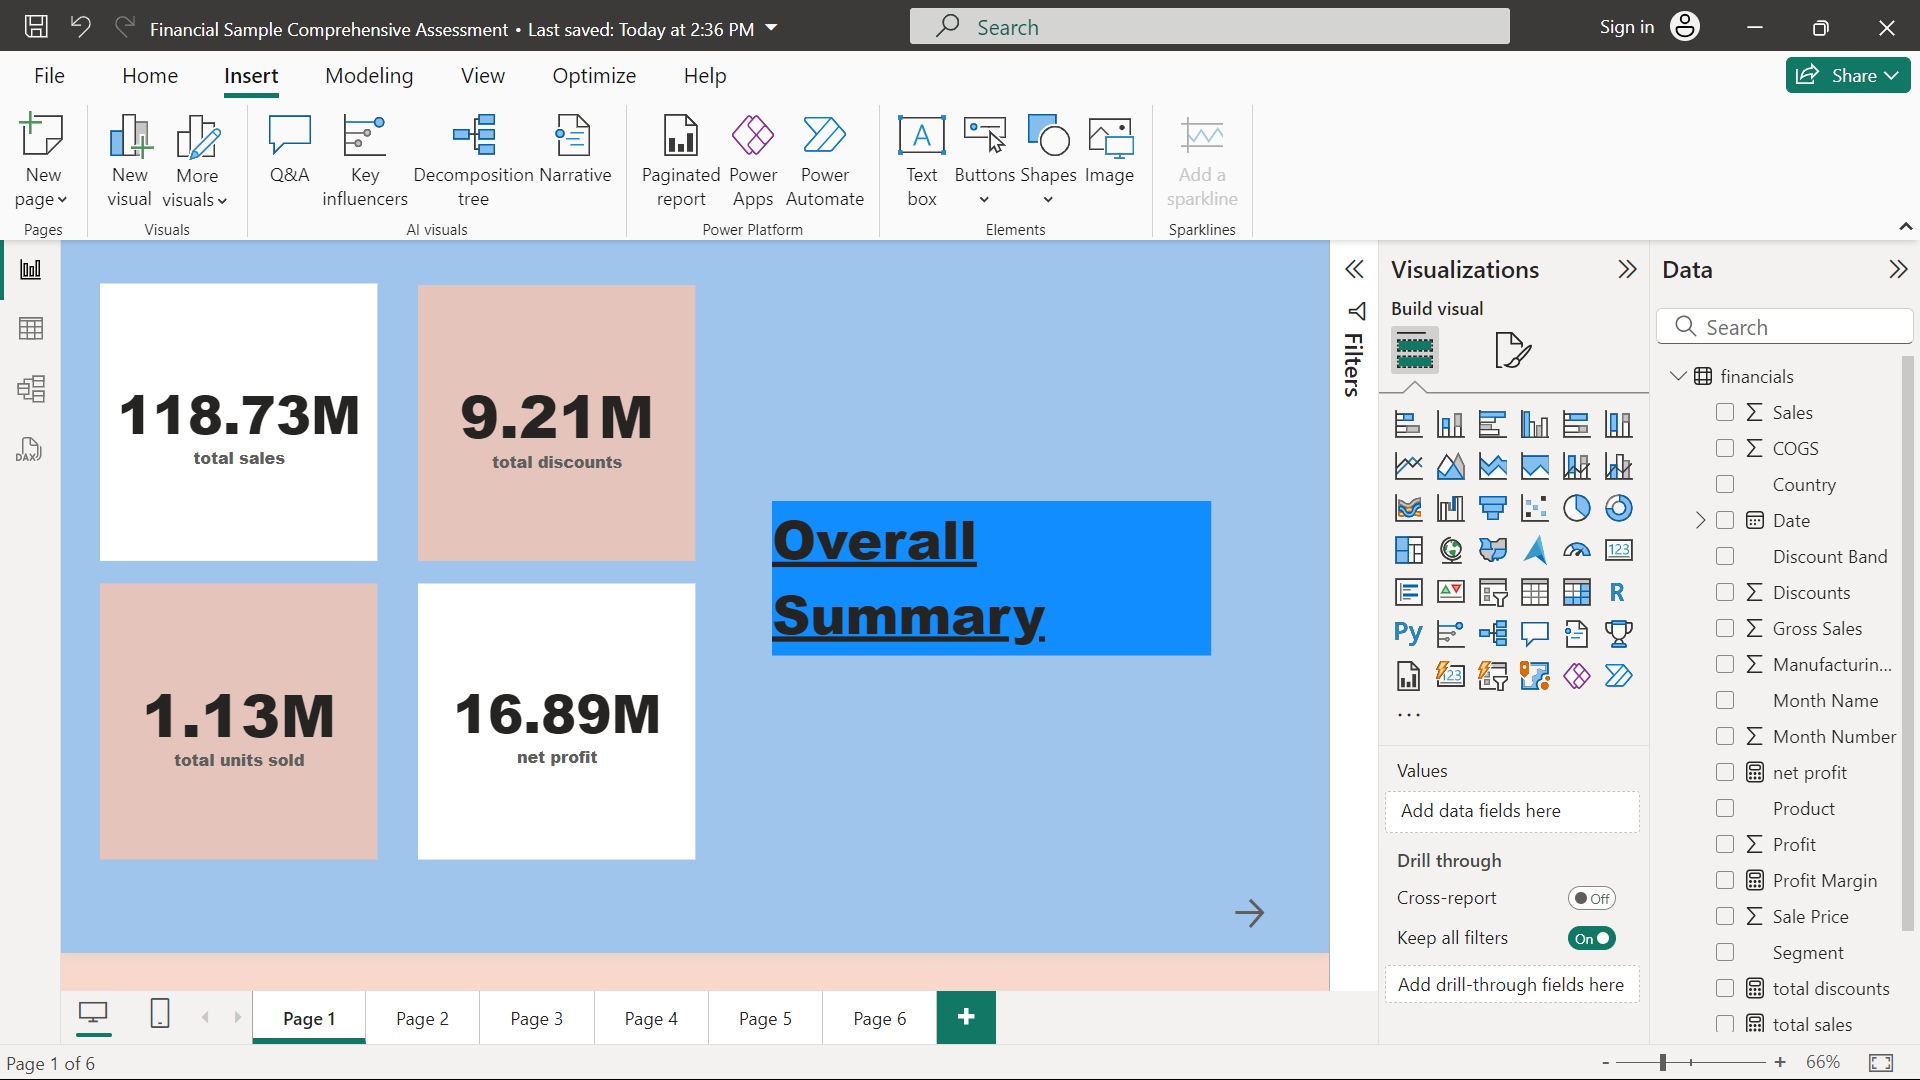

The page's visual inventory and layout, read from the dashboard file:
{"tool":"powerbi","page":{"name":"Page 1","canvas":[1280,720],"ordinal":0},"visuals":[{"type":"card","fields":{"Values":["financials.total sales"]},"box":[39.4,43.9,280.1,280.1],"z":0},{"type":"card","fields":{"Values":["financials.total discounts"]},"box":[360.4,45.4,280.1,278.6],"z":1000},{"type":"card","fields":{"Values":["financials.total units sold"]},"box":[39.4,346.8,280.1,278.6],"z":2000},{"type":"card","fields":{"Values":["financials.net profit"]},"box":[360.4,346.8,280.1,278.6],"z":3000},{"type":"shape","title":"Overall Summary ","box":[717.7,263.5,443.7,345.2],"z":4000},{"type":"actionButton","box":[1179.6,660.2,99.9,39.4],"z":5000}]}

Visuals, with their boxes on the page's 1280x720 design canvas (x1, y1, x2, y2). These are canvas units, not pixel positions in the 1920x1080 screenshot, which may show the page scaled, cropped or inside an application window:
card - financials.total sales: <box>39,44,320,324</box>
card - financials.total discounts: <box>360,45,640,324</box>
card - financials.total units sold: <box>39,347,320,625</box>
card - financials.net profit: <box>360,347,640,625</box>
"Overall Summary " shape: <box>718,264,1161,609</box>
actionButton: <box>1180,660,1280,700</box>
